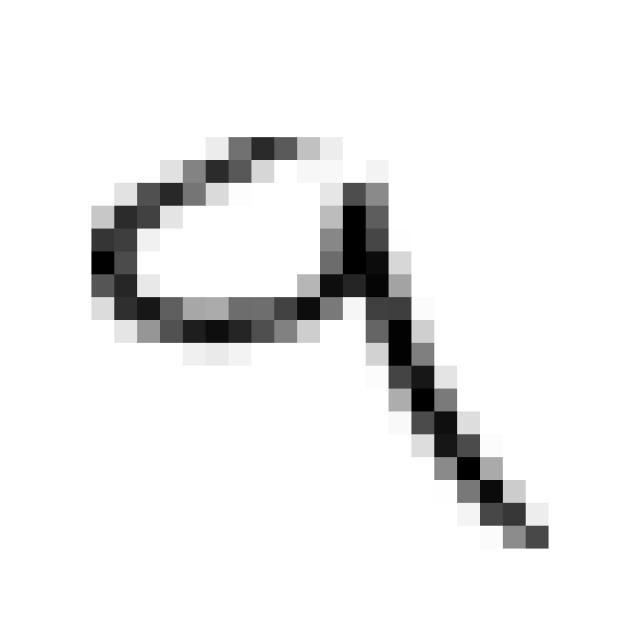9 -nine-: (66, 112, 564, 576)
